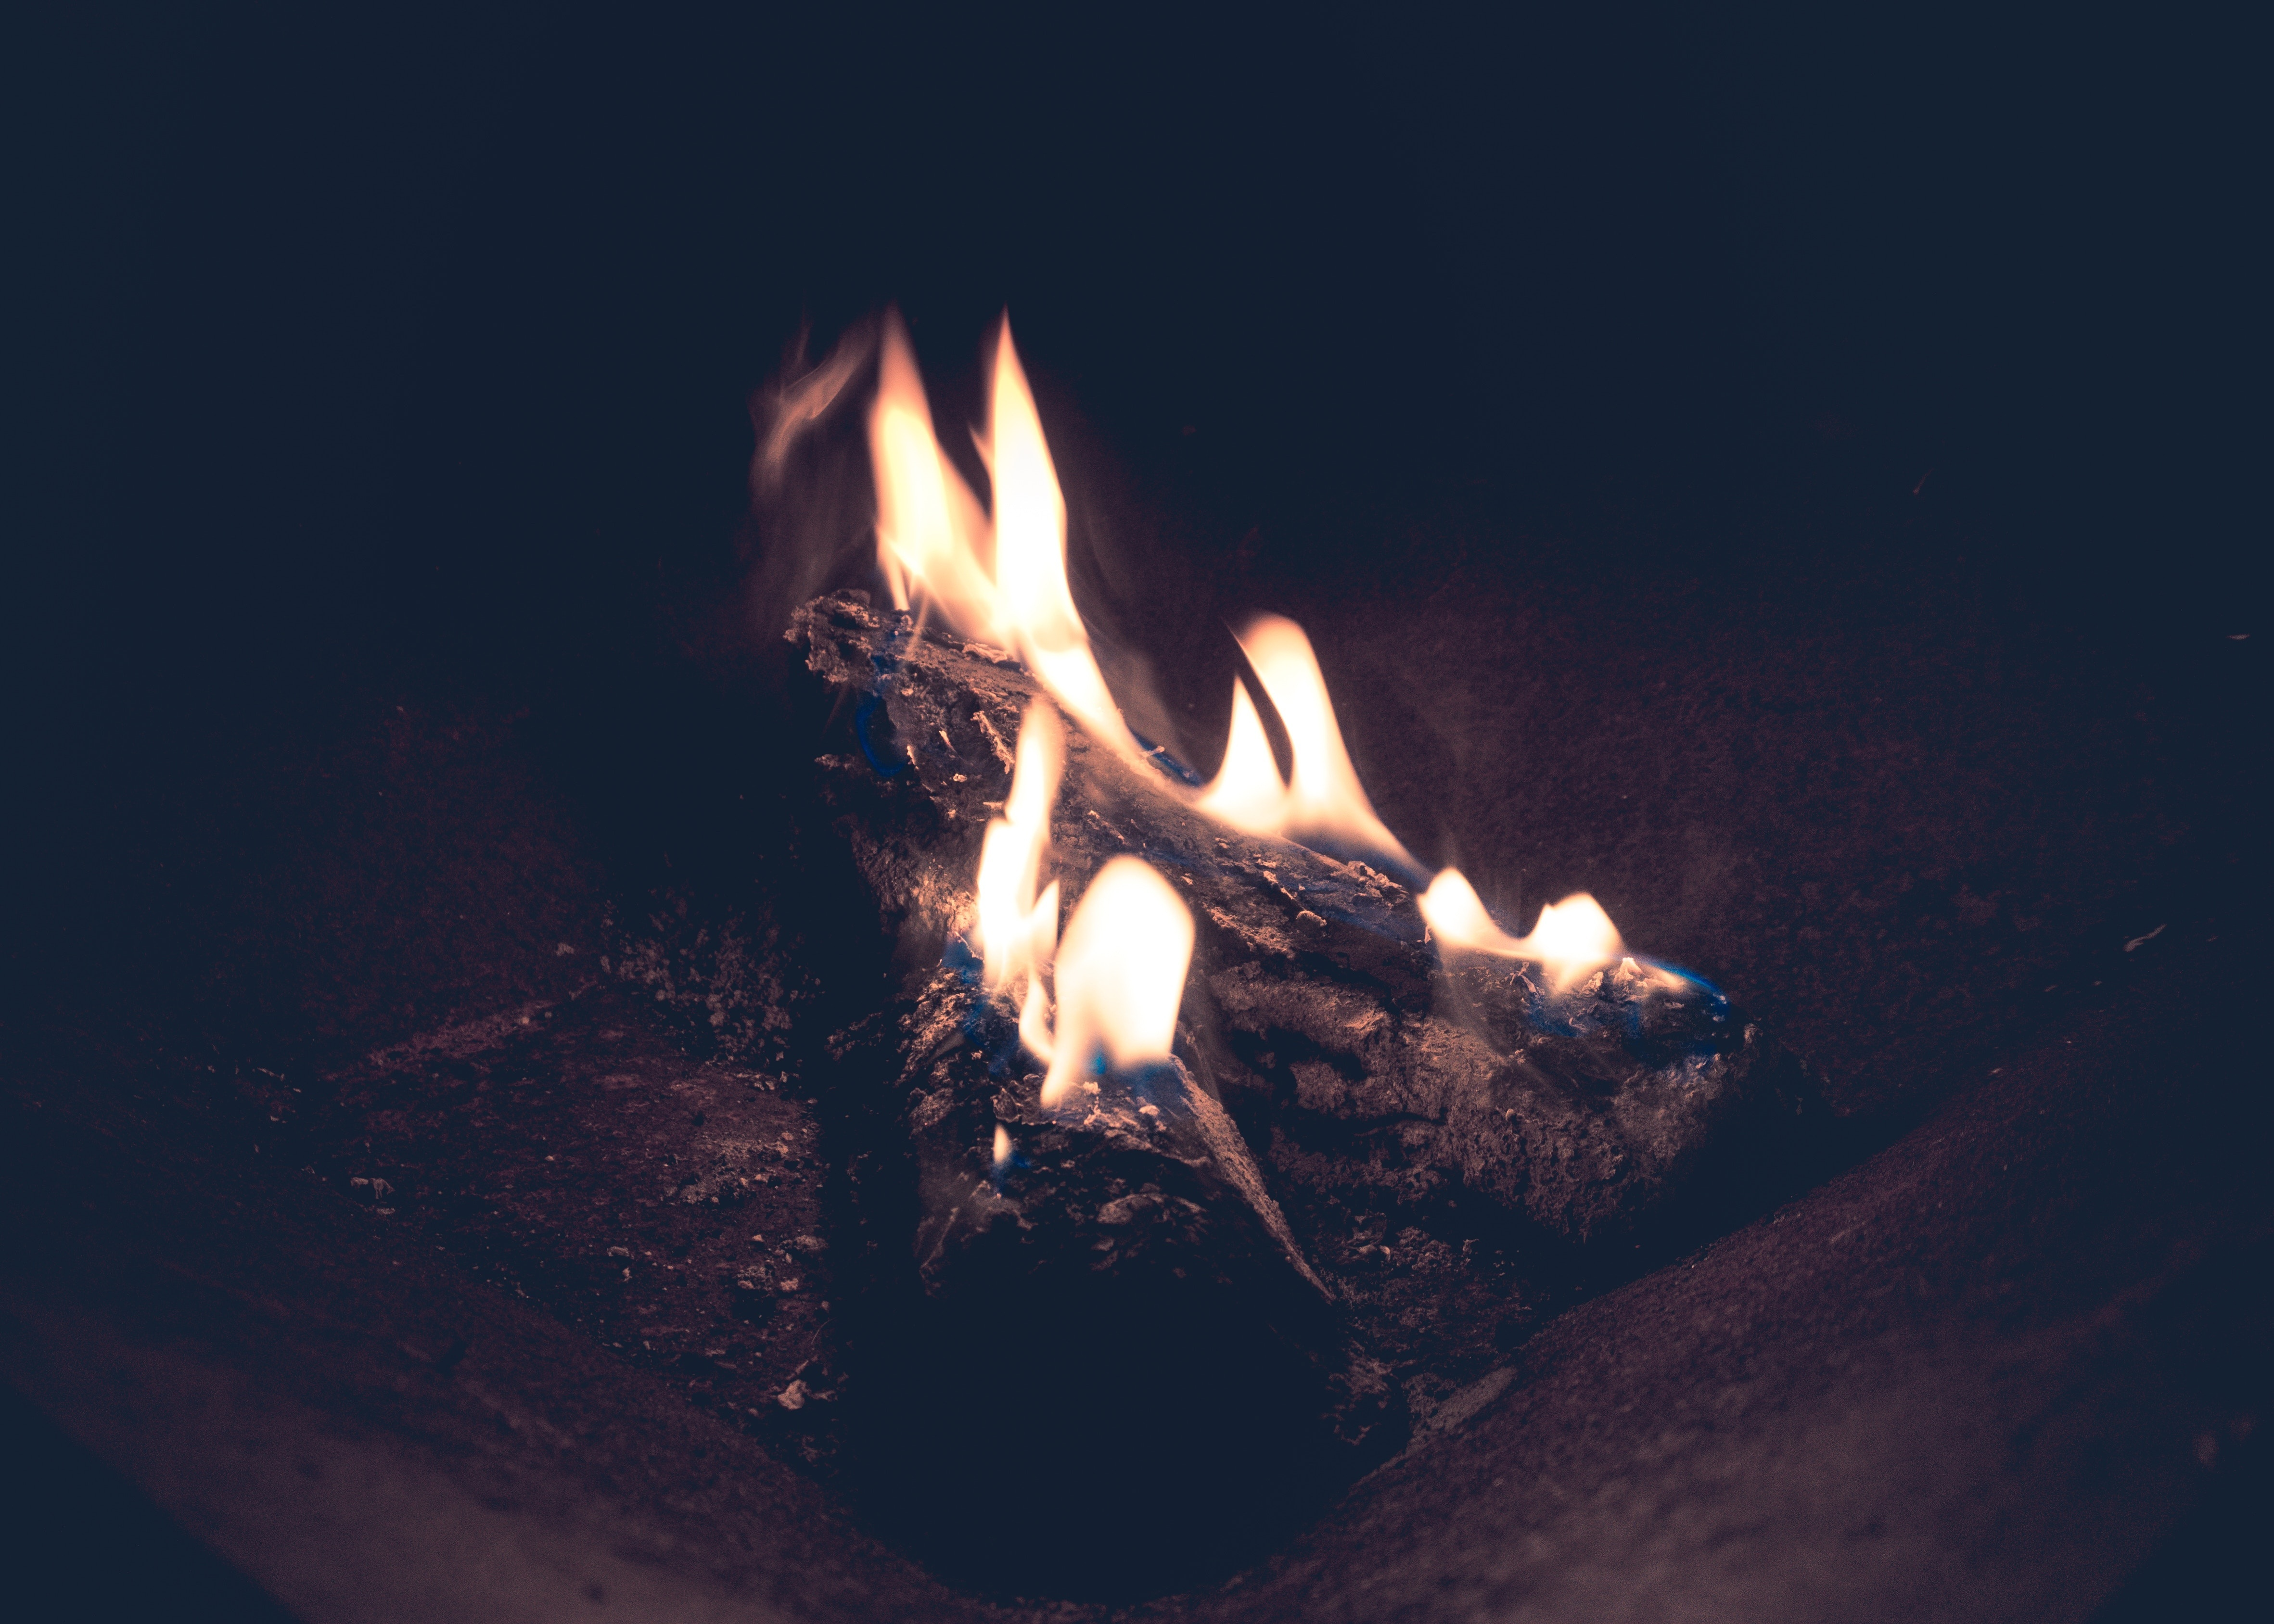fire: (789, 302, 1648, 1127)
